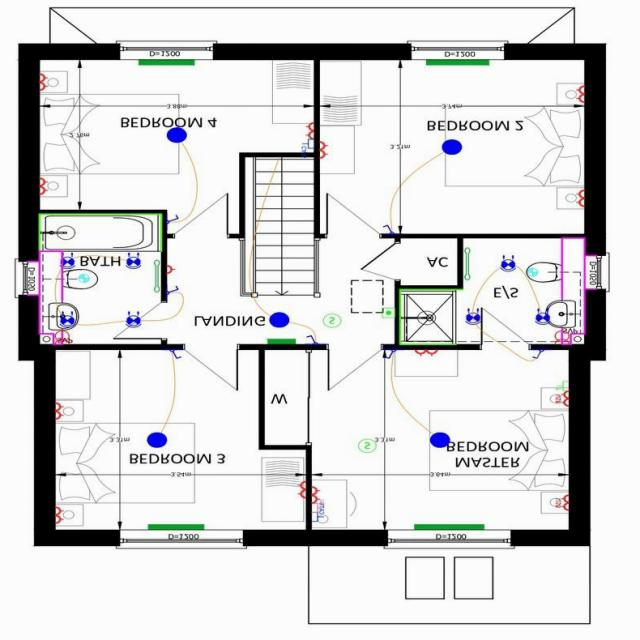Cat 6 Data Socket: (302, 140, 316, 153), (312, 515, 328, 524)
Ceiling Mounted Continuous Extract Fan With Boost Mode Activated By Light Switch: (521, 267, 543, 285), (77, 270, 92, 288)
Double Socket: (569, 186, 588, 211), (54, 400, 68, 430), (295, 476, 308, 503), (576, 80, 587, 108), (312, 485, 326, 506), (318, 140, 332, 161), (39, 70, 50, 96), (303, 120, 317, 140), (39, 175, 50, 198), (55, 504, 64, 531), (414, 350, 441, 358)
Full Height Tiling: (397, 288, 462, 348)
Light Switch: (378, 218, 401, 236), (167, 209, 183, 232), (162, 350, 187, 364), (304, 332, 325, 348), (381, 350, 401, 363), (168, 282, 183, 299), (532, 350, 547, 362)
Low Energy Downlighter: (462, 300, 485, 333), (119, 309, 148, 333), (121, 250, 146, 276), (497, 249, 521, 275), (54, 251, 80, 275), (530, 304, 552, 327), (56, 306, 77, 330)
Low Energy Pendant Light: (434, 136, 472, 163), (424, 428, 454, 453), (263, 310, 294, 334), (142, 428, 168, 454), (162, 128, 192, 146)
Mains Wired Smoke Detector: (351, 437, 381, 464), (324, 310, 343, 333), (381, 306, 398, 322)
Radiator: (412, 520, 495, 532), (424, 58, 494, 72), (132, 58, 203, 70), (143, 521, 212, 533), (264, 337, 301, 348)
Shaver Socket: (552, 326, 574, 348), (53, 329, 74, 347)
Single Socket: (32, 212, 166, 257), (165, 258, 178, 280)
TV - Satellite Multisocket: (313, 501, 328, 516)
Telephone Socket: (555, 382, 571, 392)
USB Double Socket: (554, 493, 571, 515), (554, 391, 570, 412)
